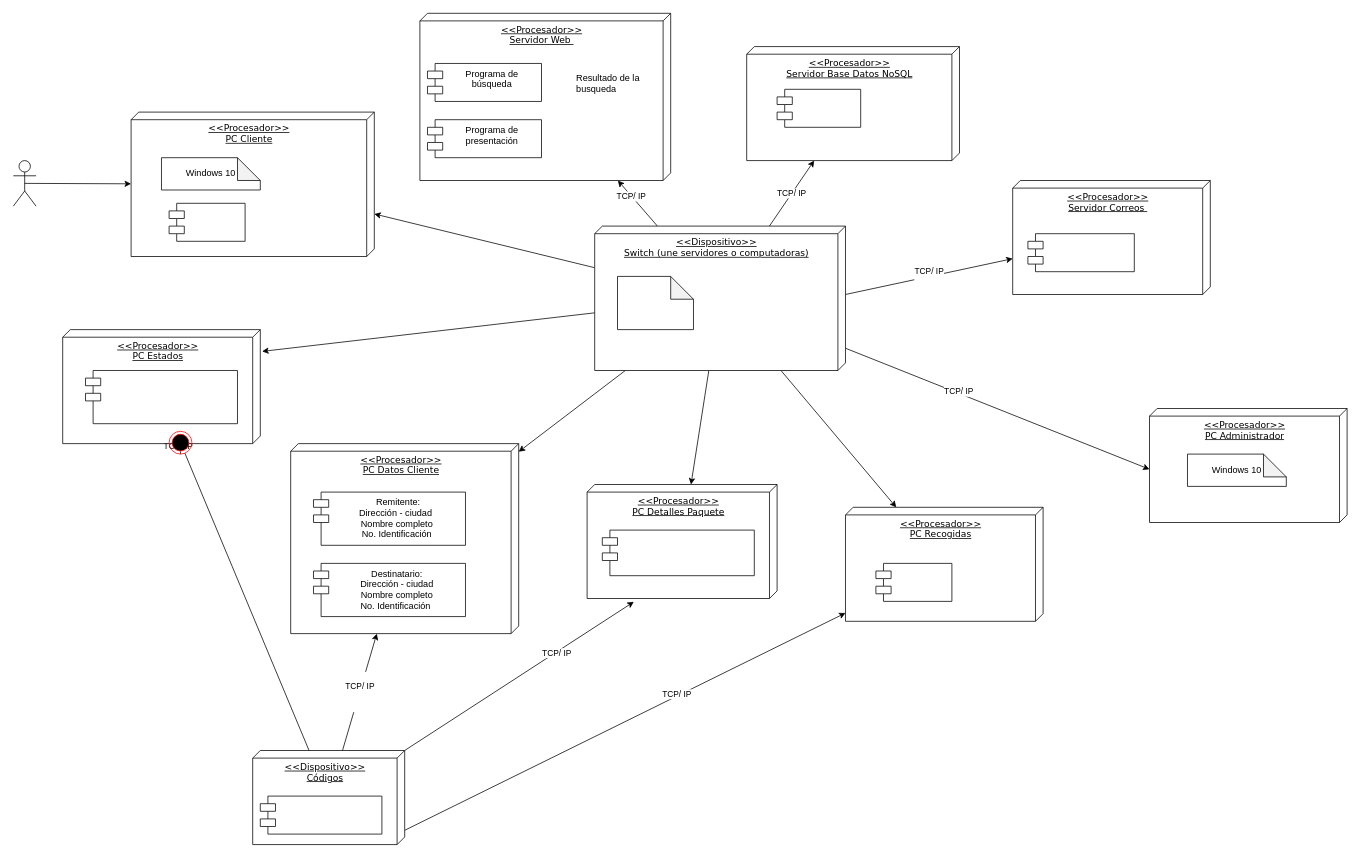
Image size: 1360x858. Some labels were removed from this diagram. Here are the shapes that lost their labels. From the top down, the centre of each, then its label:
the point at 818,108: Usuarios Contraseñas
the point at 24,183: Actor
the point at 206,222: Chrome
the point at 1080,252: Link activación Código
the point at 655,303: 3com 48 puertos
the point at 161,397: Estado del paquete: Guardado Devuelto Entregado
the point at 678,552: Dimensiones ancho x alto x largo Peso aproximado Delicado o No
the point at 913,582: Fechas disponibles
the point at 321,814: Generador de códigos aleatorios - # guía
